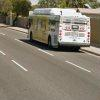Bus: (23, 7, 93, 49)
